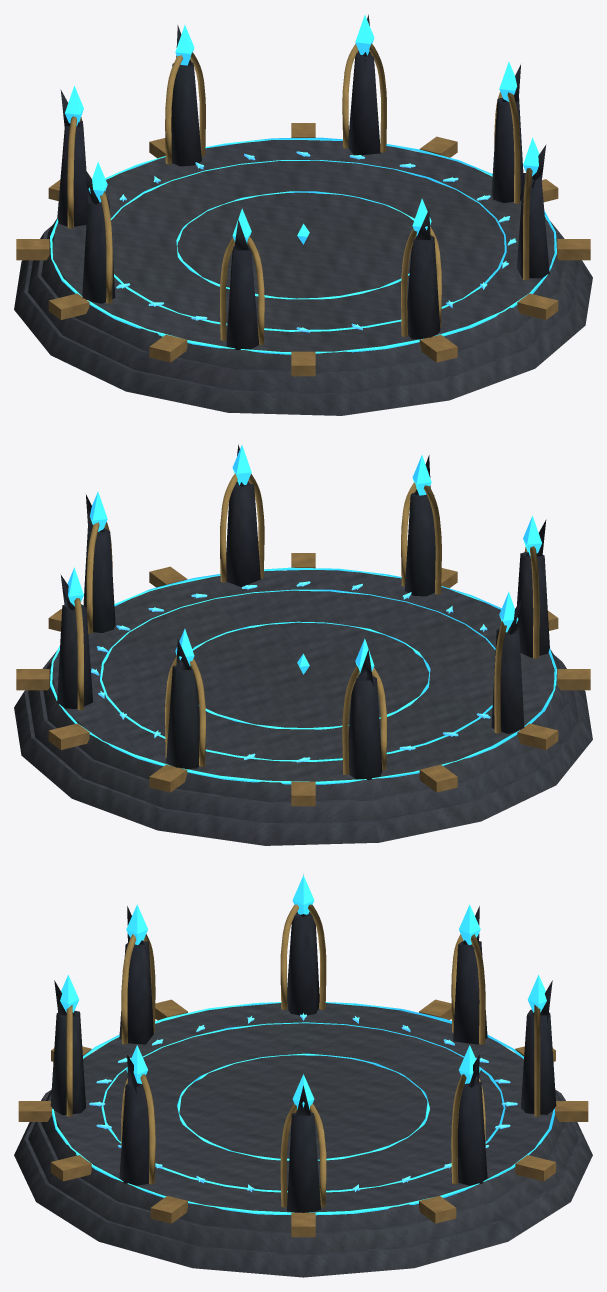
File: blue_fountain.gltf
The picture shows the model from 3 angles, top to bottom: view 1: azimuth 30°, elevation 25°; view 2: azimuth 150°, elevation 25°; view 3: azimuth 270°, elevation 25°; orthographic projection.
Visible parts, largest first — view 1: blue_fountain; view 2: blue_fountain; view 3: blue_fountain.
Part boxes in pixels (x1,y1,x2,y2): blue_fountain: [14, 14, 592, 415]; blue_fountain: [14, 444, 592, 845]; blue_fountain: [14, 874, 592, 1277].
Bounding box in the file's own units: 7.88 × 2.72 × 7.88.
Materials: 4 (2 with a texture image).
